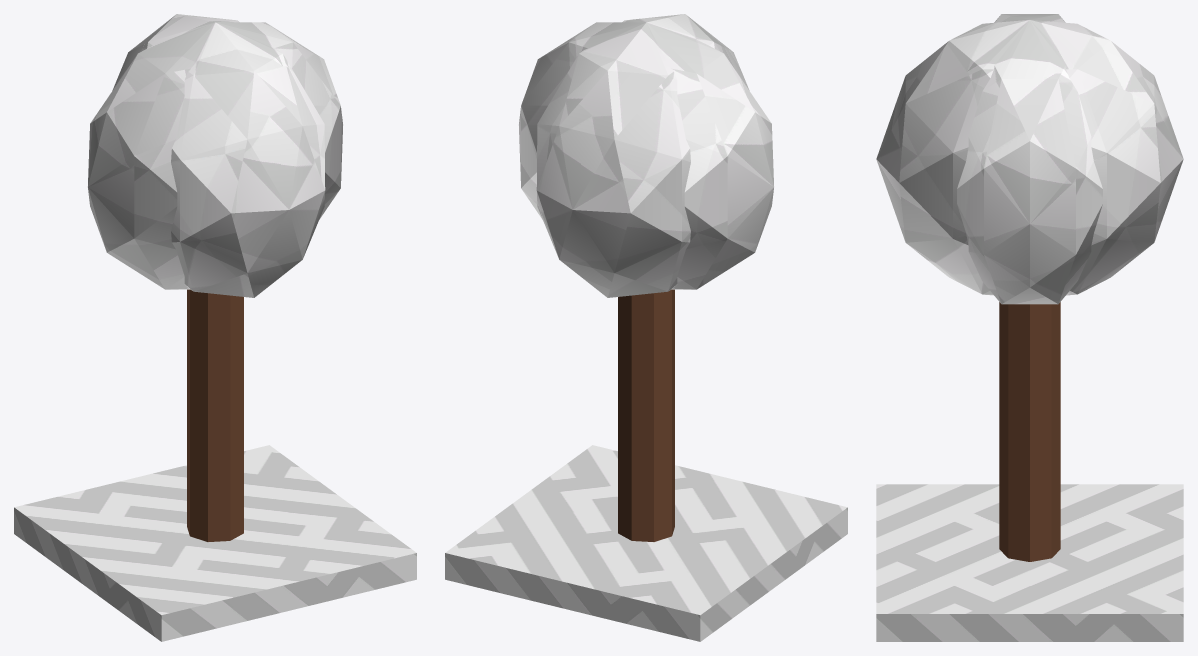
Rendered from Tree3.obj.
The picture shows the model from 3 angles, left to right: view 1: azimuth 30°, elevation 25°; view 2: azimuth 150°, elevation 25°; view 3: azimuth 270°, elevation 25°; orthographic projection. The views are drawn at different scales.
Size of the model in its own units: 1 by 2 by 1.
3 materials, 2 textured.
